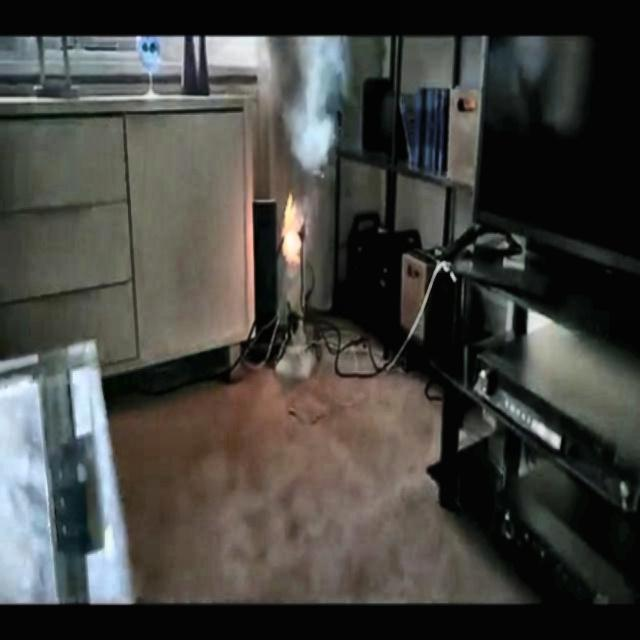smoke: (264, 39, 354, 185)
